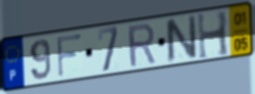7: (96, 25, 120, 75)
9: (28, 38, 52, 82)
F: (55, 31, 84, 80)
H: (196, 9, 231, 62)
N: (164, 13, 199, 65)
R: (126, 21, 158, 70)
